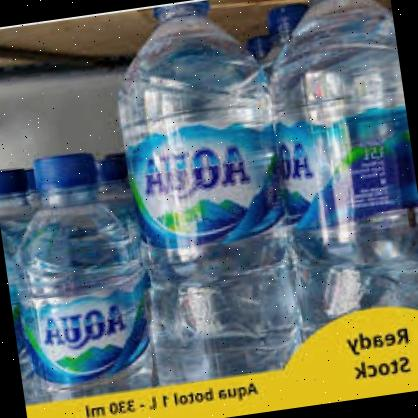bottle: (5, 137, 158, 418)
cap: (27, 146, 105, 205)
label: (23, 288, 153, 380)
